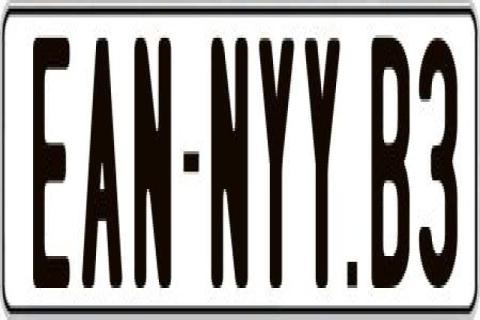0: (416, 29, 456, 291)
A: (80, 32, 127, 285)
B: (368, 38, 408, 300)
E: (32, 35, 70, 288)
N: (210, 35, 252, 291), (132, 35, 170, 297)
Y: (304, 38, 344, 302), (259, 29, 294, 288)
